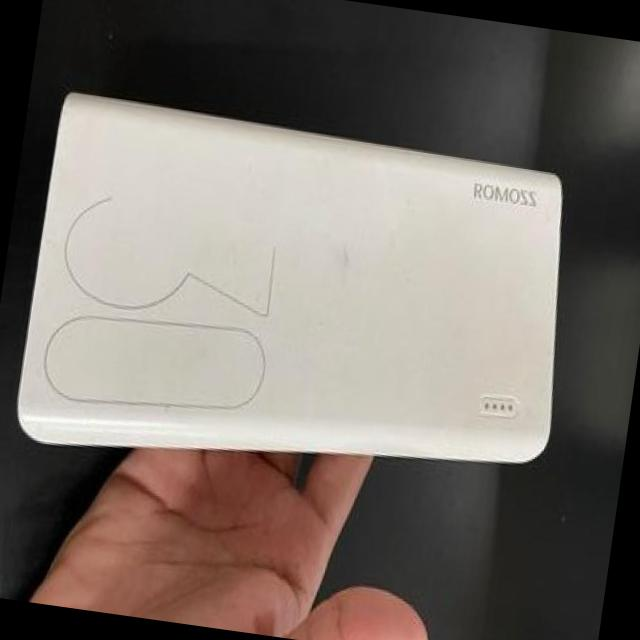power_bank: (1, 82, 600, 519)
